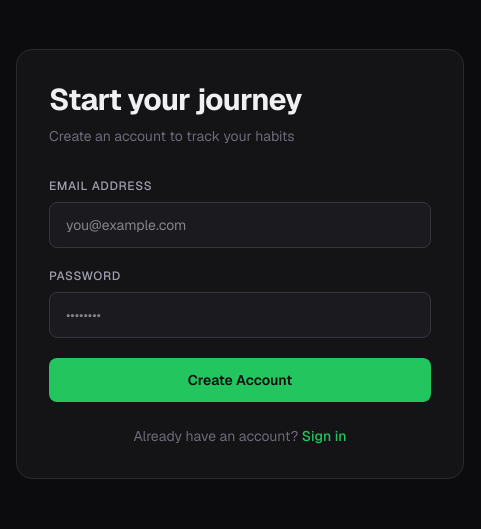
SignupForm › should show exact error message for existing email
In the field with test id "auth-signup-email": (240,225) [49,202,431,248], type "existing@example.com"
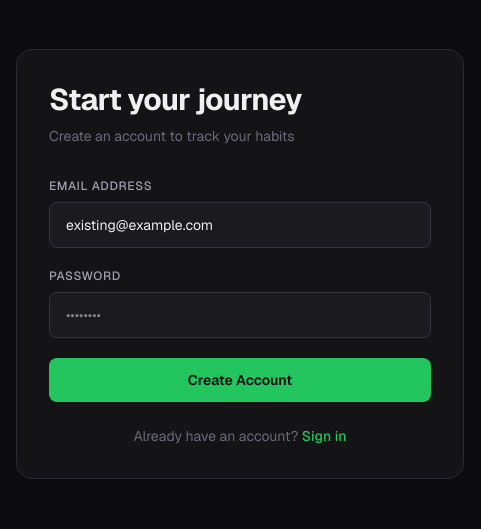
In the password field with test id "auth-signup-password": (240,315) [49,292,431,338], type "newpassword"
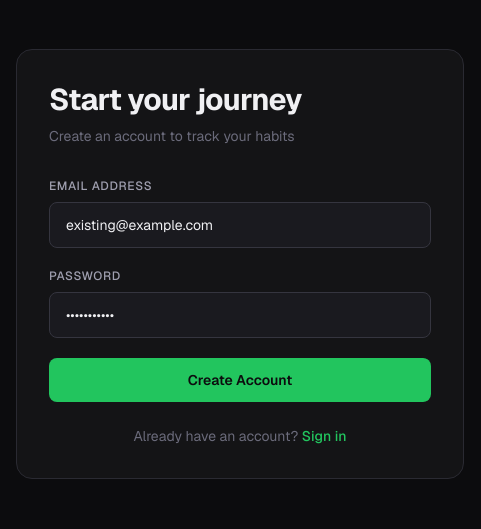
Submit the form
Click the button with test id "auth-signup-submit": (240,380) [49,358,431,402]
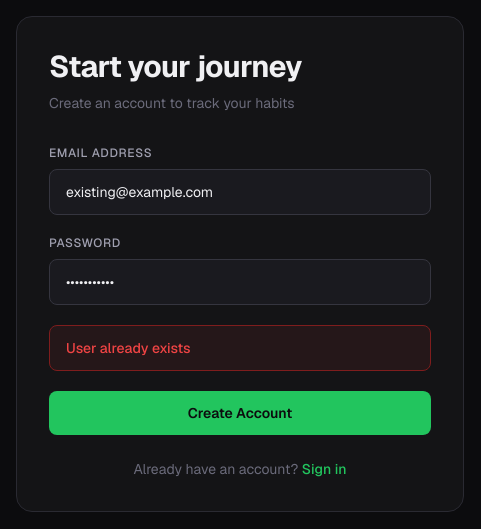
Expected: the text "User already exists" is shown, [49,325,431,371]
